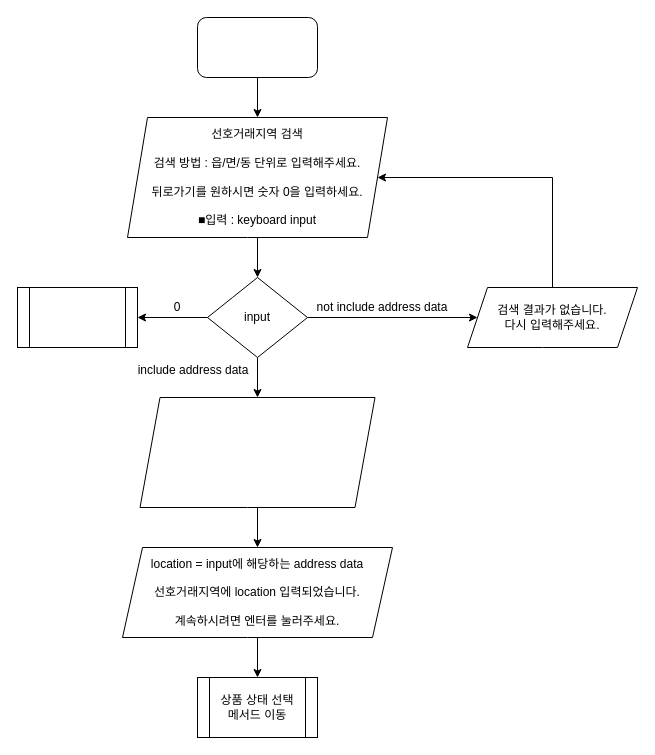
The diagram is 655 pixels wide and 755 high, and some of its shapes have lost their labels. Here are the shapes that lost their labels. From the top down, the box of each, then its label:
(196, 16, 318, 78): 선호거래지역 검색 메서드 진입
(16, 286, 138, 348): 상품 가격 입력 메서드 이동
(139, 396, 375, 508): [검색 결과] include address data list ... 검색 결과에서 번호를 선택해주세요. ■입력 : keyboard input
